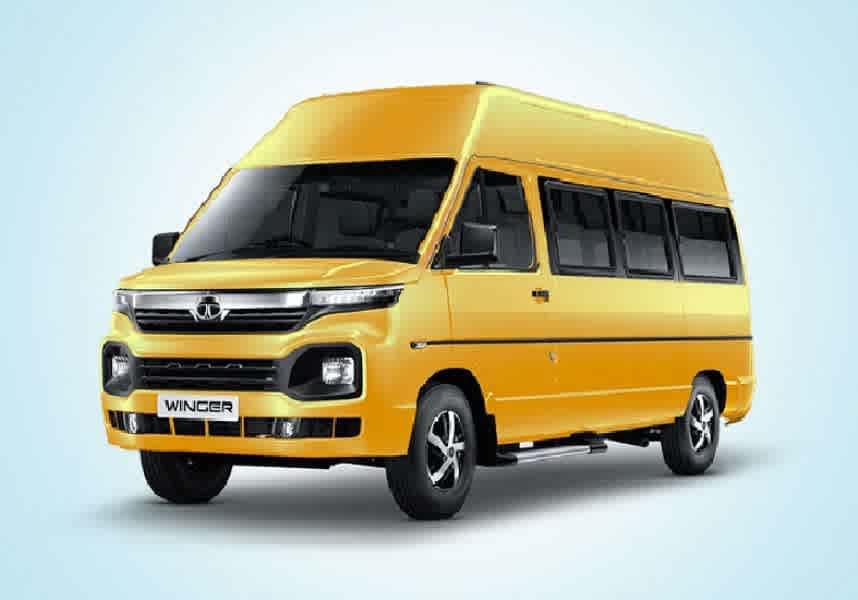van: (99, 80, 755, 520)
